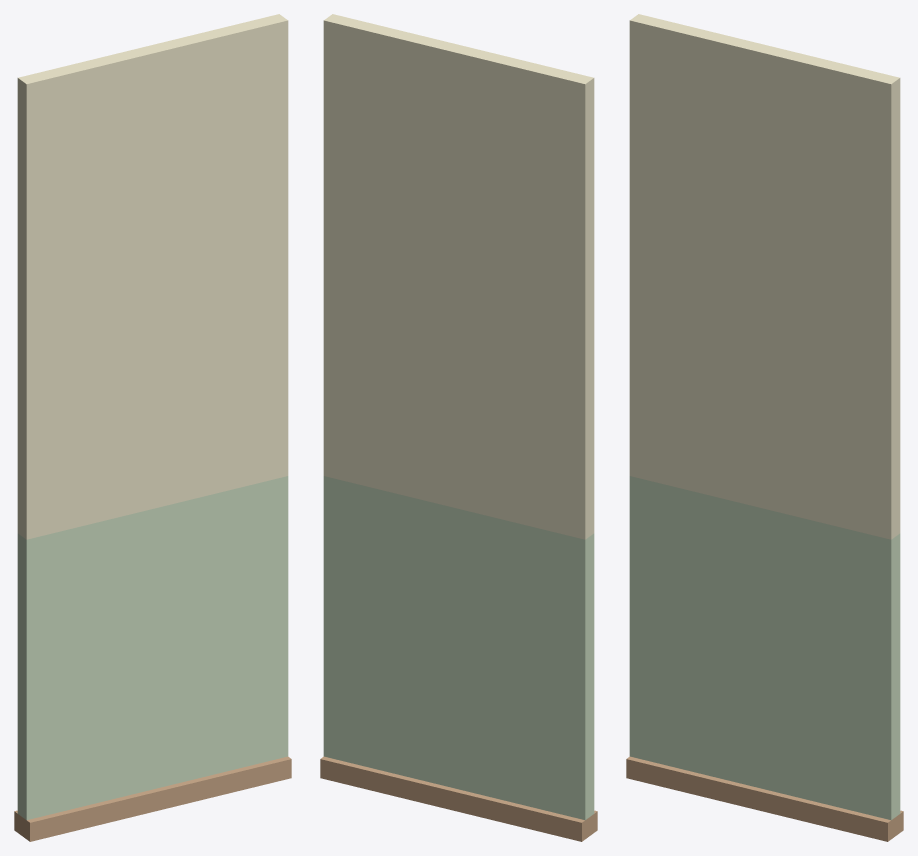
File: wall_2.fbx
The picture shows the model from 3 angles, left to right: view 1: azimuth 30°, elevation 25°; view 2: azimuth 150°, elevation 25°; view 3: azimuth 330°, elevation 25°; orthographic projection.
Parts seen in each view (by area): view 1: Cube_4; view 2: Cube_4; view 3: Cube_4.
Boxes of the visible parts, <box> form: Cube_4: <box>14,14,291,841</box>; Cube_4: <box>320,14,597,841</box>; Cube_4: <box>626,14,903,841</box>.
Size of the model in its own units: 32.36 by 89.3 by 3.39.
